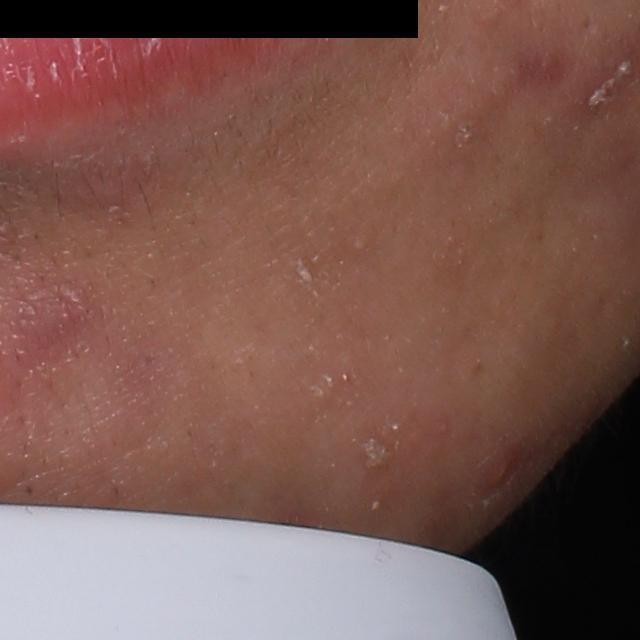papule: (476, 444, 519, 497)
